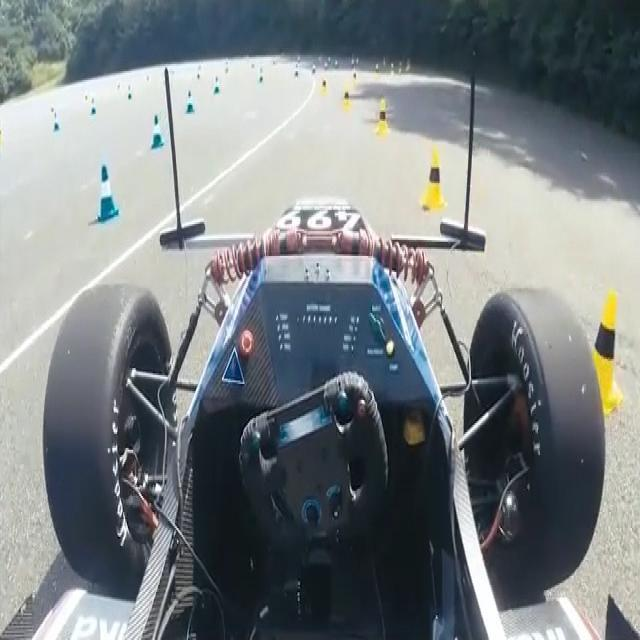blue_cone: (97, 164, 120, 224), (151, 114, 165, 151), (185, 89, 195, 115)
yellow_cone: (578, 288, 624, 416), (419, 147, 448, 213), (373, 98, 392, 137)
